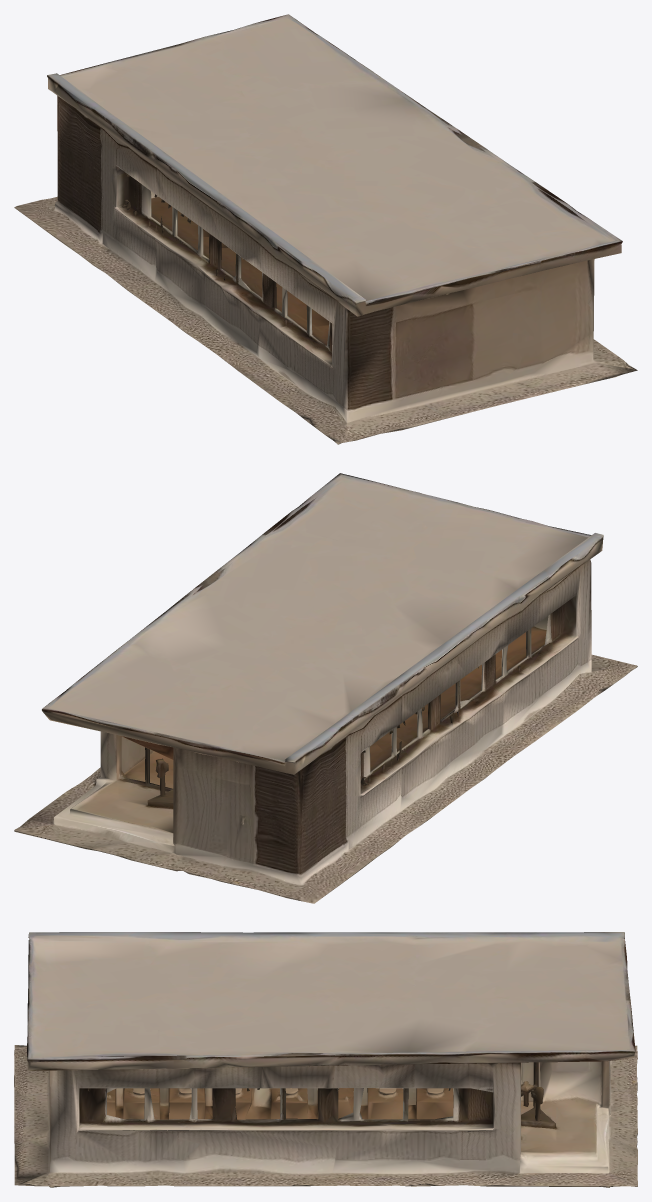
File: admin-block.glb
The picture shows the model from 3 angles, top to bottom: view 1: azimuth 30°, elevation 25°; view 2: azimuth 150°, elevation 25°; view 3: azimuth 270°, elevation 25°; orthographic projection. The views are drawn at different scales.
Parts seen in each view (by area): view 1: tripo_node_12e6fe10-9338-4830-9104-56dba6a5dfd2; view 2: tripo_node_12e6fe10-9338-4830-9104-56dba6a5dfd2; view 3: tripo_node_12e6fe10-9338-4830-9104-56dba6a5dfd2.
Boxes of the visible parts, bbox=[...] form: tripo_node_12e6fe10-9338-4830-9104-56dba6a5dfd2: bbox=[14, 14, 637, 444]; tripo_node_12e6fe10-9338-4830-9104-56dba6a5dfd2: bbox=[14, 473, 637, 903]; tripo_node_12e6fe10-9338-4830-9104-56dba6a5dfd2: bbox=[14, 932, 637, 1187].
Bounding box in the file's own units: 0.5342 × 0.2276 × 1.
Materials: 1 (1 with a texture image).
